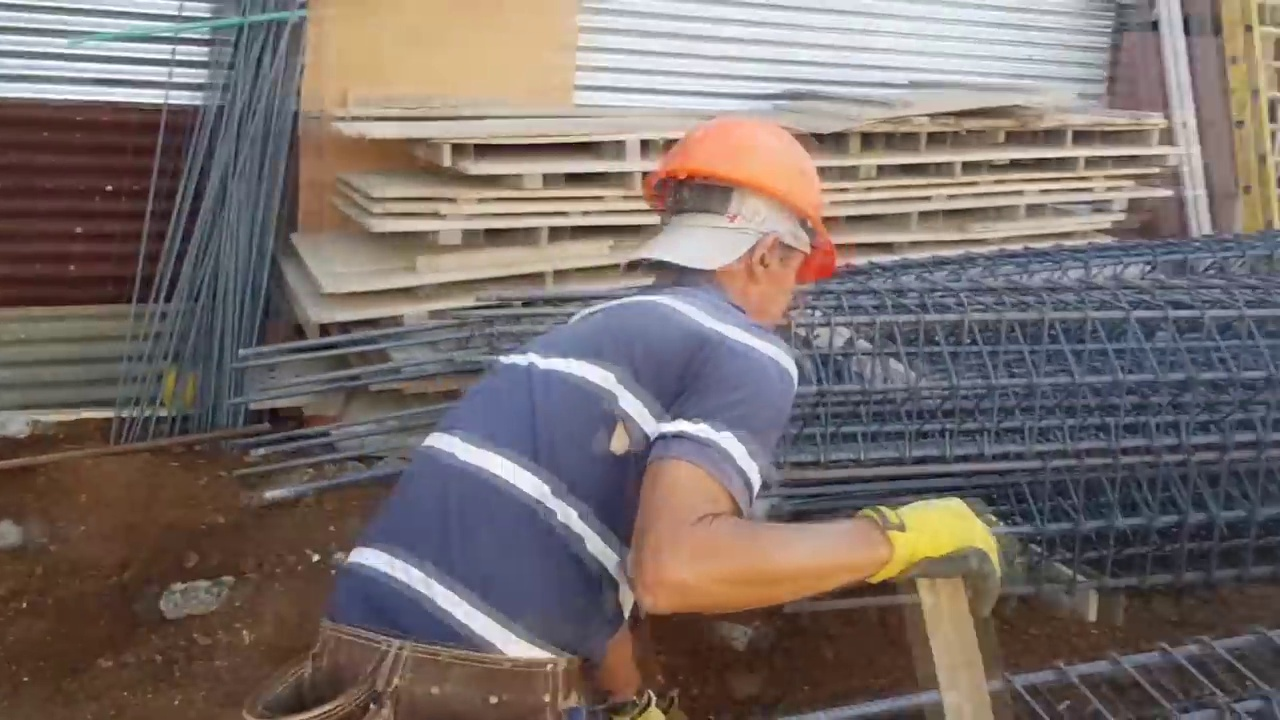helmet: (645, 111, 846, 275)
helmet-on: (635, 112, 837, 338)
person: (303, 135, 915, 720)
